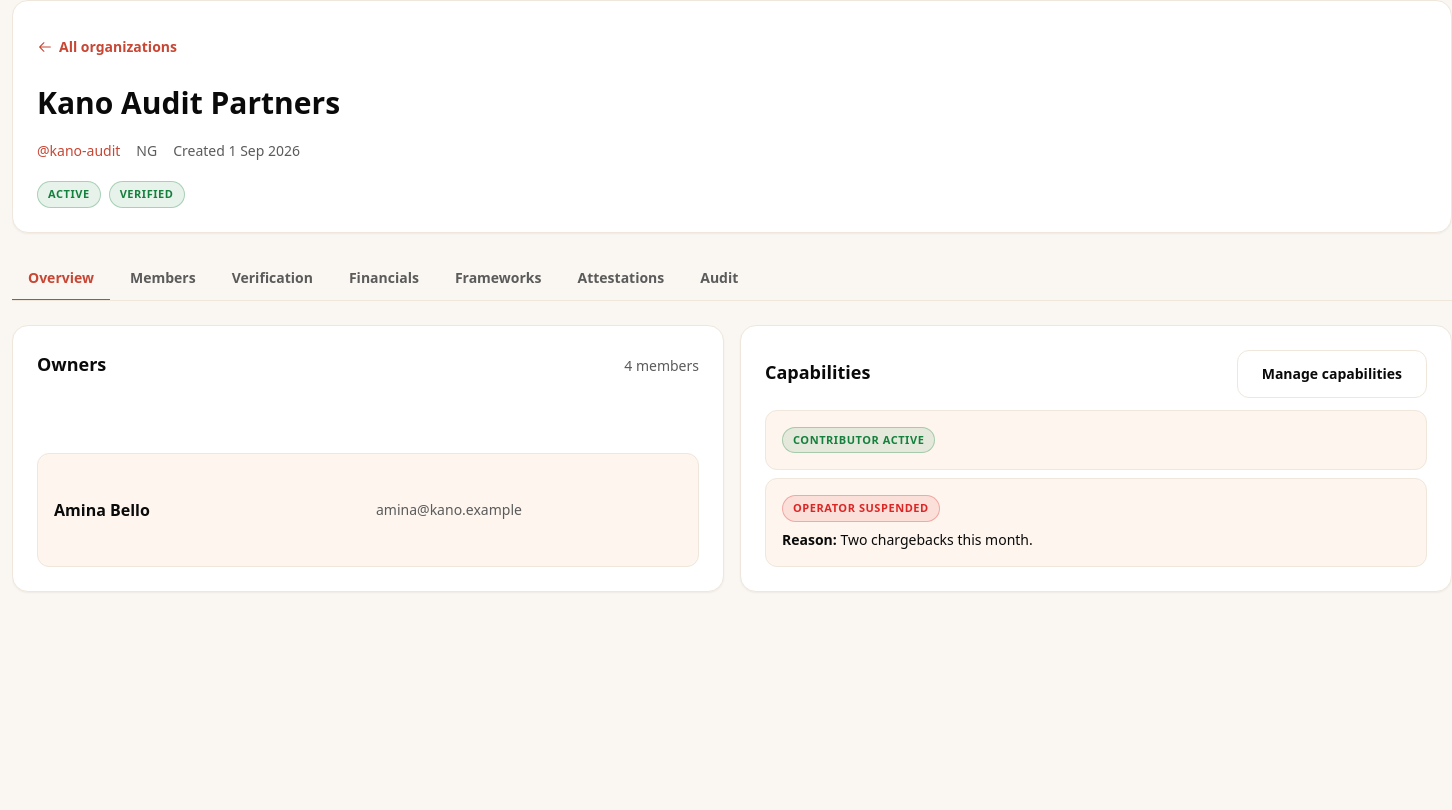
AdminOrganizationDetailPage › lists attestations in flight with admin status, reviewer and due date
Check: the heading "Kano Audit Partners" is shown, box [37,82,340,123]
Click the tab "Attestations" at (621, 278), box [562,256,680,300]
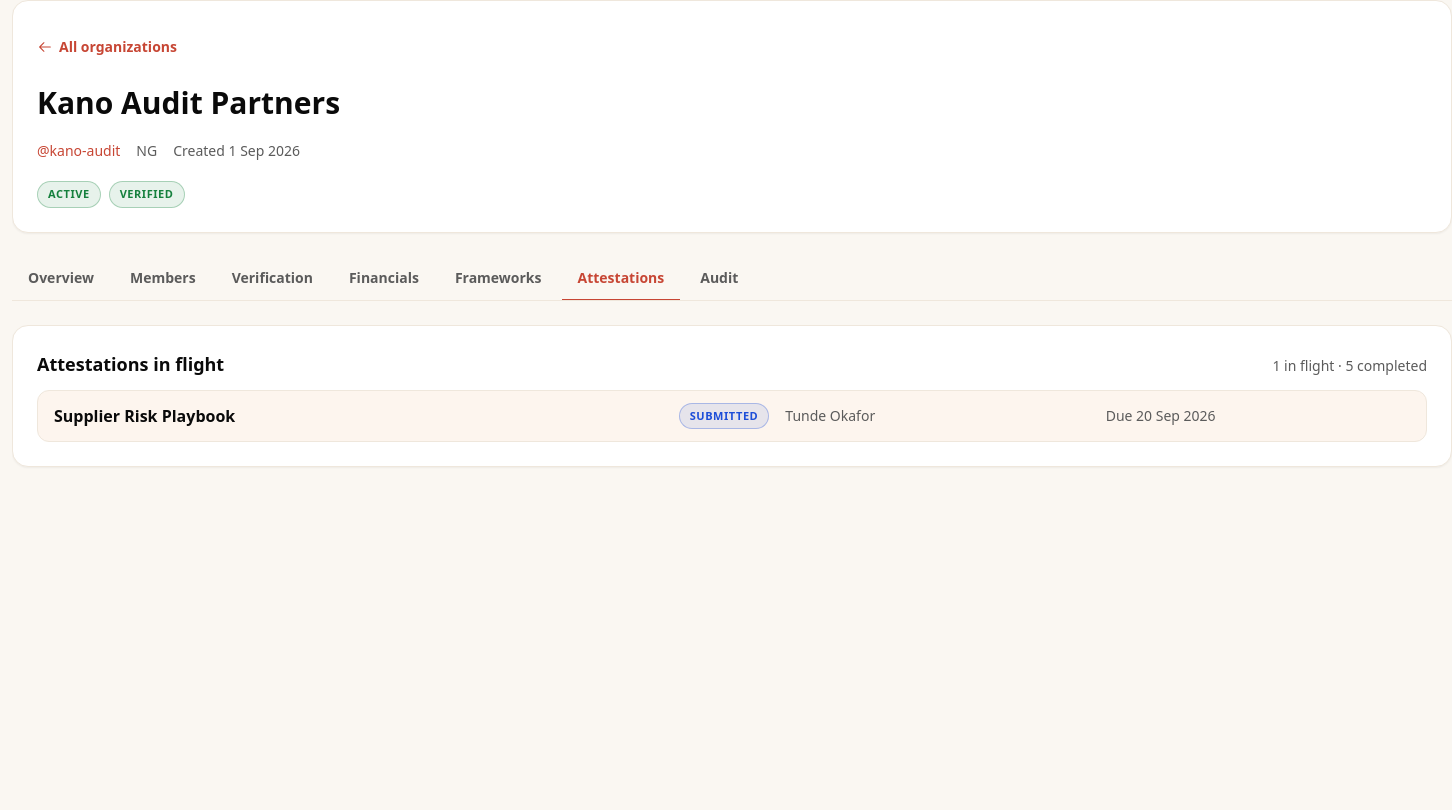
Check: the text "Supplier Risk Playbook" is shown, box [54,405,235,427]
Check: the text "Submitted" is shown, box [679,402,769,429]
Check: the panel shows "Tunde Okafor", box [785,406,875,425]
